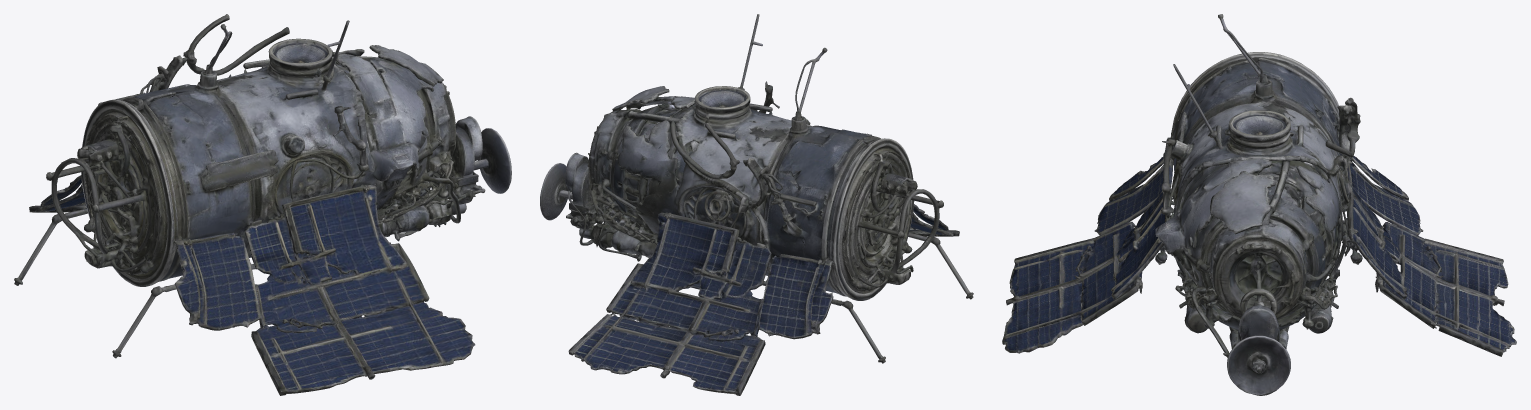
The model's file is prop-satellite-wreck.glb.
The picture shows the model from 3 angles, left to right: view 1: azimuth 30°, elevation 25°; view 2: azimuth 150°, elevation 25°; view 3: azimuth 270°, elevation 25°; orthographic projection. The views are drawn at different scales.
Bounding box in the file's own units: 1.82 × 1.12 × 1.89.
1 material, 1 textured.
